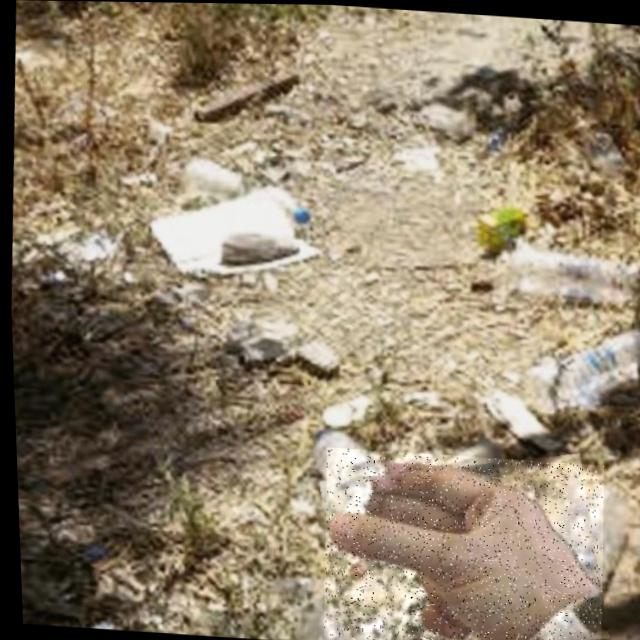Person in Rubble: (313, 446, 606, 640)
